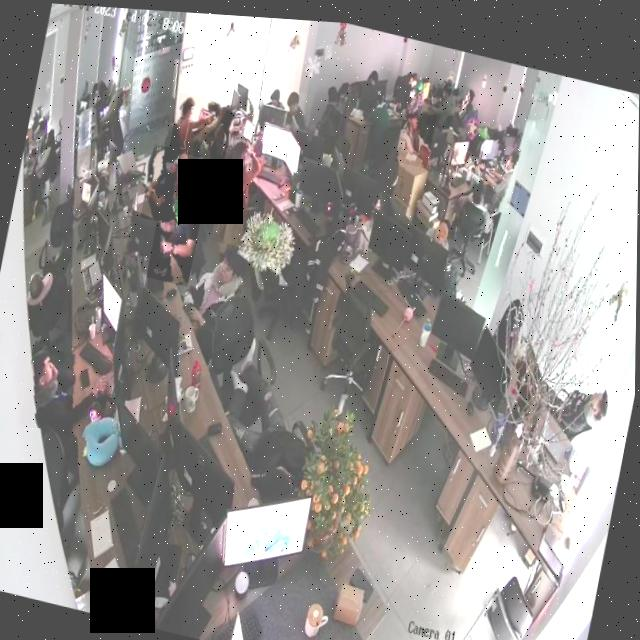person: (20, 343, 114, 443), (147, 156, 210, 285), (180, 233, 252, 334), (169, 89, 236, 160), (141, 140, 189, 224), (220, 132, 267, 209), (479, 134, 521, 207), (395, 100, 437, 163), (426, 71, 460, 125), (211, 103, 240, 160), (281, 85, 314, 128), (449, 78, 477, 128)
